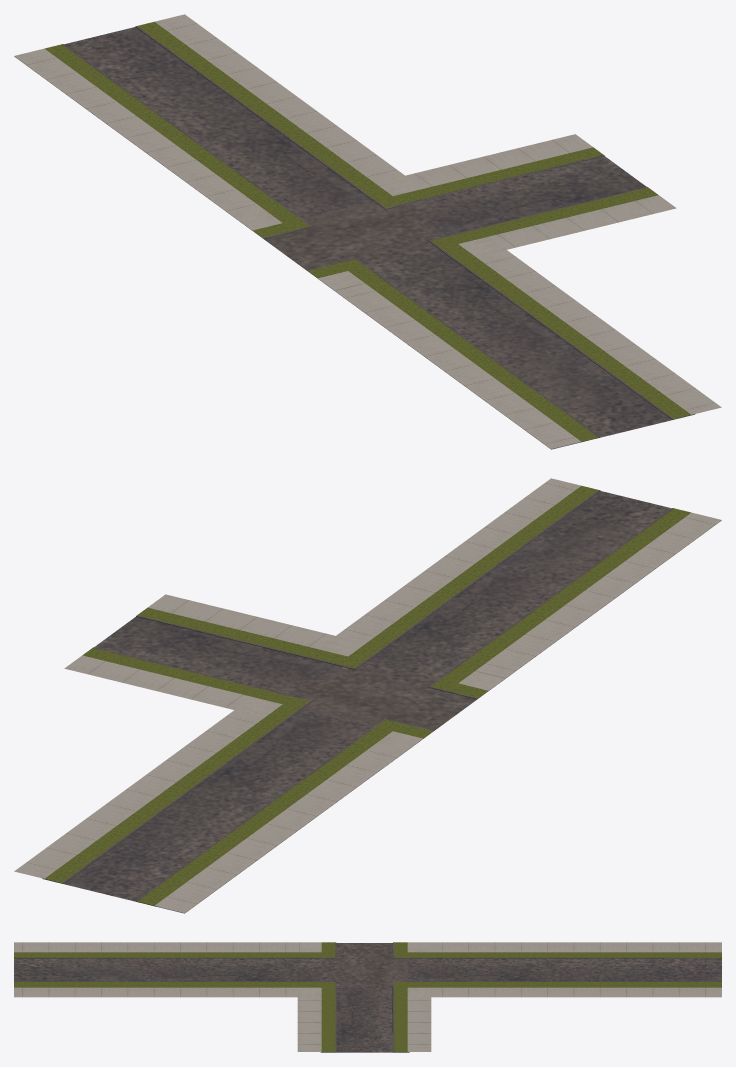
The model's file is cross.fbx.
The picture shows the model from 3 angles, top to bottom: view 1: azimuth 30°, elevation 25°; view 2: azimuth 150°, elevation 25°; view 3: azimuth 270°, elevation 25°; orthographic projection. The views are drawn at different scales.
Visible parts, largest first — view 1: cross.001; view 2: cross.001; view 3: cross.001.
Part boxes in pixels (left/top/right/bottom): cross.001: left=14, top=14, right=721, bottom=449; cross.001: left=14, top=478, right=721, bottom=913; cross.001: left=14, top=942, right=721, bottom=1052.
Bounding box in the file's own units: 12621 × 19.13 × 34432.
